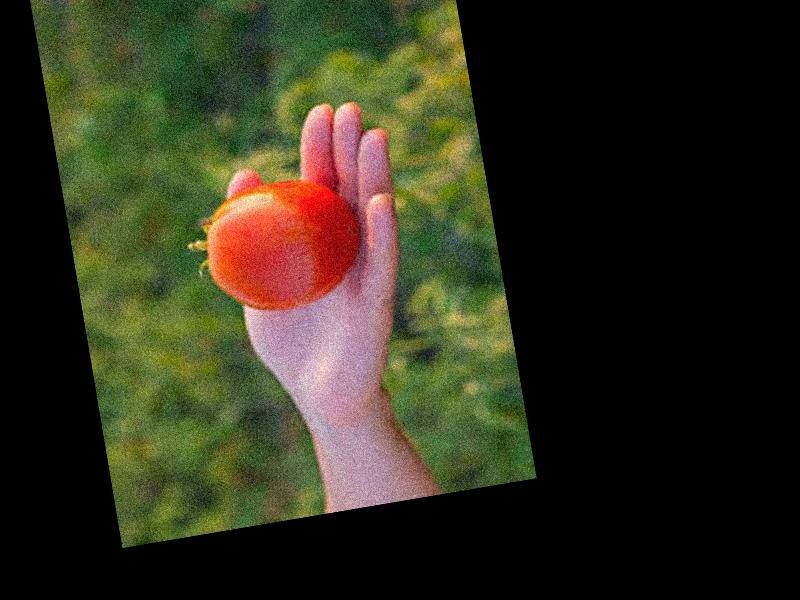Tomato: (198, 171, 373, 319)
